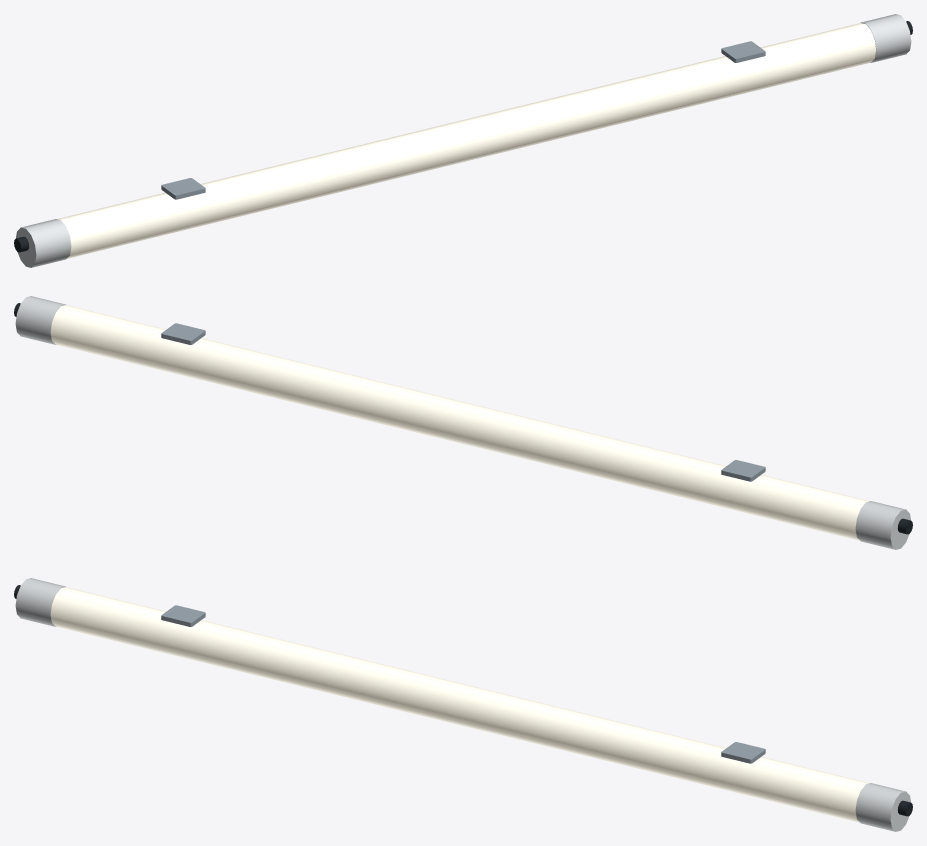
File: source.glb
3 views of the same model, one above another, from view 1: azimuth 30°, elevation 25°; view 2: azimuth 150°, elevation 25°; view 3: azimuth 330°, elevation 25° (orthographic).
Visible parts, largest first — view 1: Emitters, 粉末涂层铝壳, 机加工金属; view 2: Emitters, 粉末涂层铝壳, 机加工金属; view 3: Emitters, 粉末涂层铝壳, 机加工金属.
Boxes of the visible parts, bbox=[...] form: Emitters: bbox=[57, 23, 876, 258]; 粉末涂层铝壳: bbox=[16, 14, 911, 267]; 机加工金属: bbox=[161, 41, 765, 199]; Emitters: bbox=[50, 305, 869, 540]; 粉末涂层铝壳: bbox=[15, 296, 910, 549]; 机加工金属: bbox=[161, 323, 765, 481]; Emitters: bbox=[50, 587, 869, 822]; 粉末涂层铝壳: bbox=[15, 578, 910, 831]; 机加工金属: bbox=[161, 605, 765, 763].
Bounding box in the file's own units: 1.83 × 0.0817 × 0.0745.
